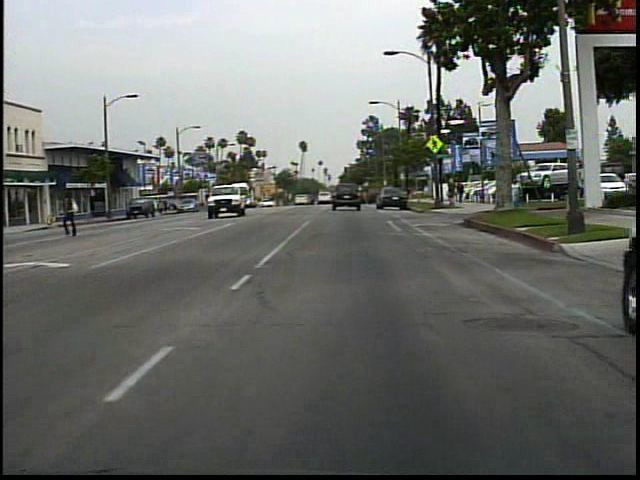person: (60, 190, 88, 241), (509, 177, 525, 211)
